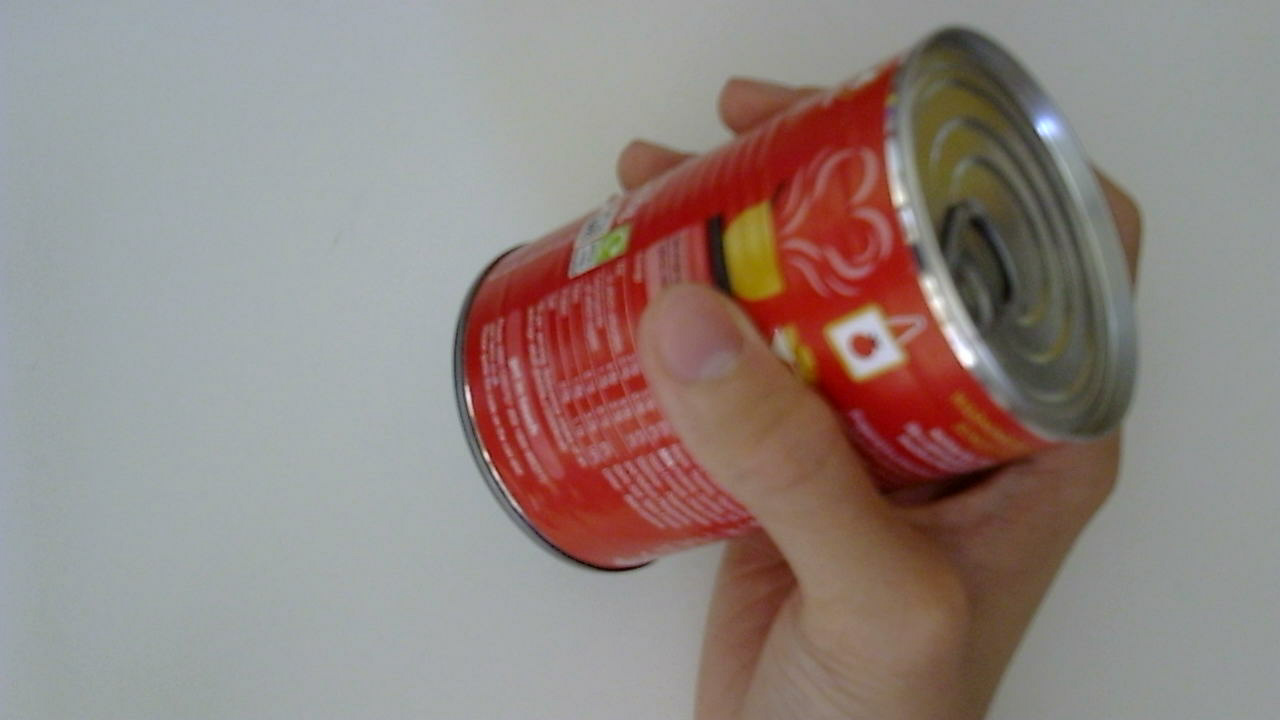Metal Tin: (453, 31, 1147, 583)
